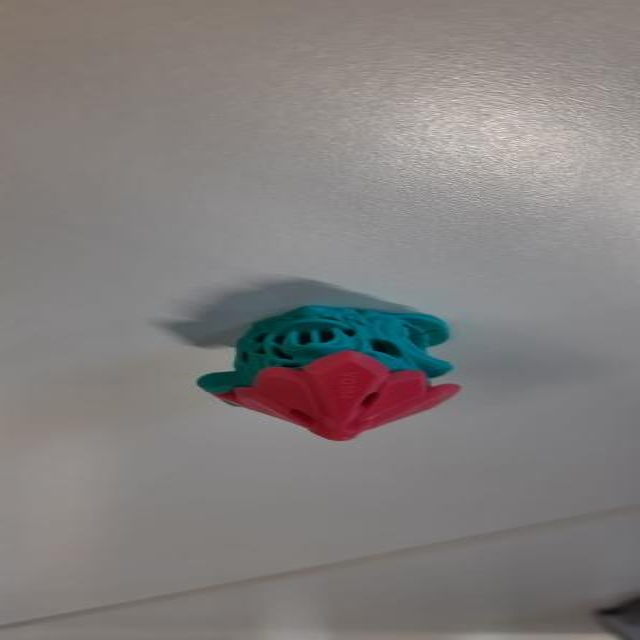House: (137, 279, 484, 455)
